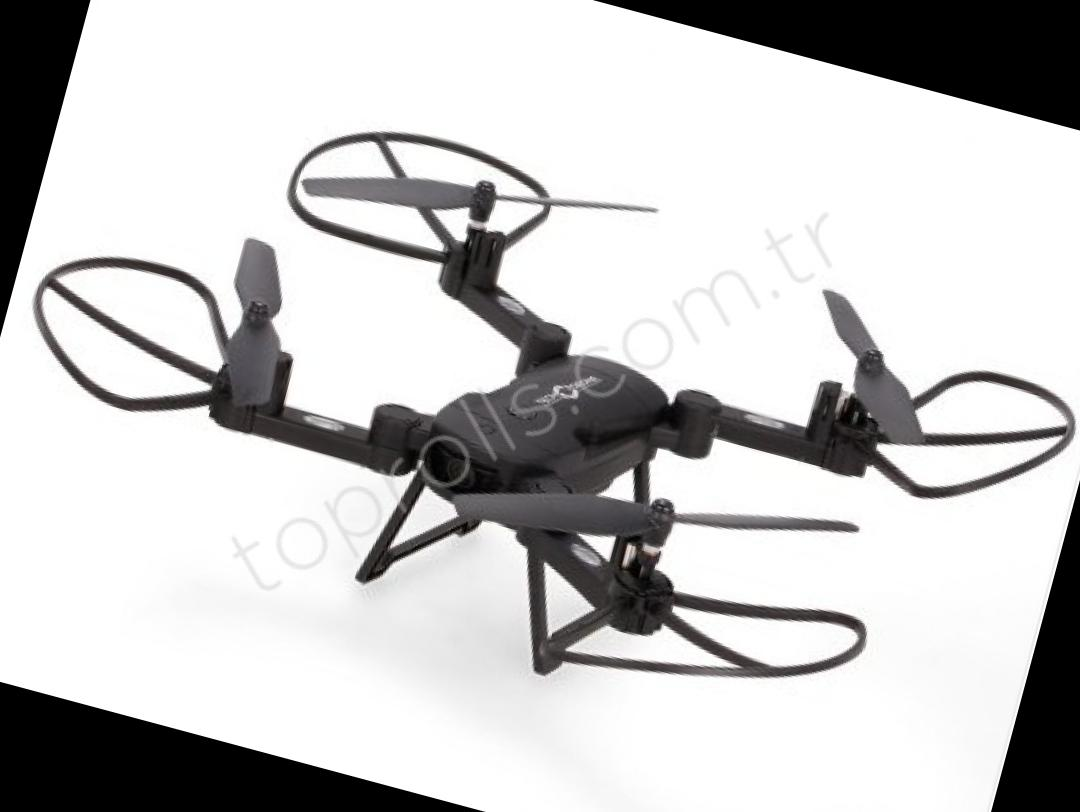drone: (0, 48, 1080, 781)
